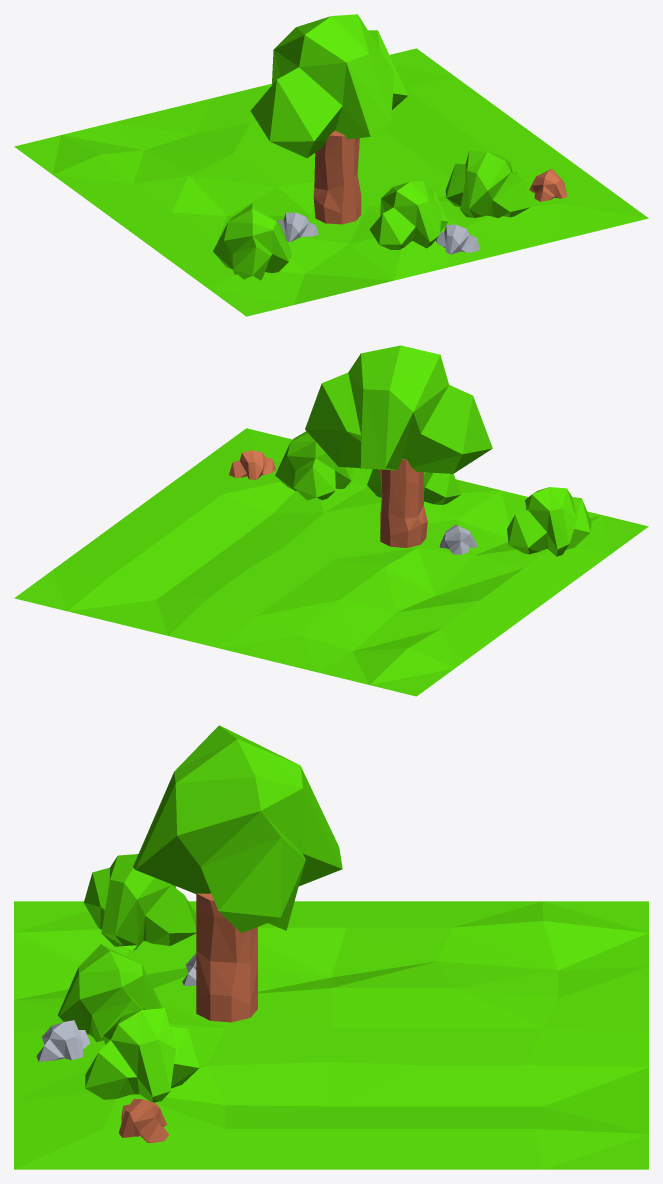
Rendered from BackgroundGround.fbx.
The picture shows the model from 3 angles, top to bottom: view 1: azimuth 30°, elevation 25°; view 2: azimuth 150°, elevation 25°; view 3: azimuth 270°, elevation 25°; orthographic projection. The views are drawn at different scales.
Visible parts, largest first — view 1: Ground; view 2: Ground; view 3: Ground.
Part boxes in pixels (<box>): Ground: <box>14,14,648,316</box>; Ground: <box>14,345,648,696</box>; Ground: <box>14,725,648,1169</box>.
Bounding box in the file's own units: 2000 × 1004 × 2000.
